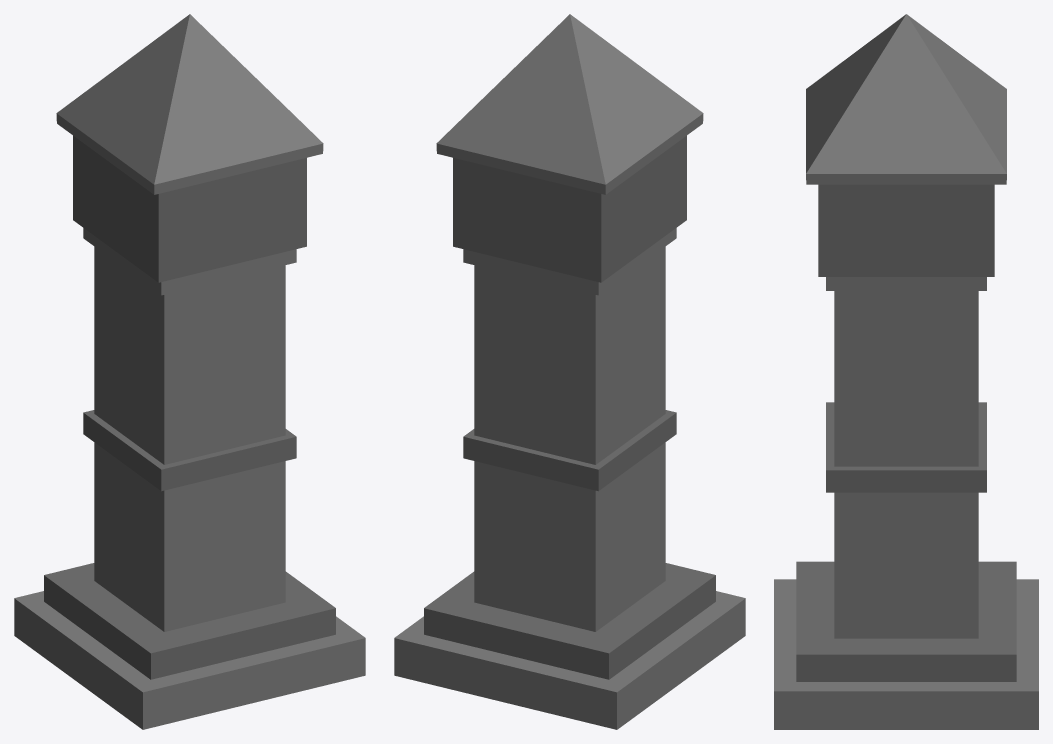
The model's file is small_column3.fbx.
3 renders of one model, left to right at view 1: azimuth 30°, elevation 25°; view 2: azimuth 150°, elevation 25°; view 3: azimuth 270°, elevation 25°, orthographic. The views are drawn at different scales.
Parts seen in each view (by area): view 1: small_column3; view 2: small_column3; view 3: small_column3.
Boxes of the visible parts, bbox=[...] form: small_column3: bbox=[14, 14, 365, 729]; small_column3: bbox=[394, 14, 745, 729]; small_column3: bbox=[774, 14, 1038, 729].
Bounding box in the file's own units: 108 × 297 × 108.
